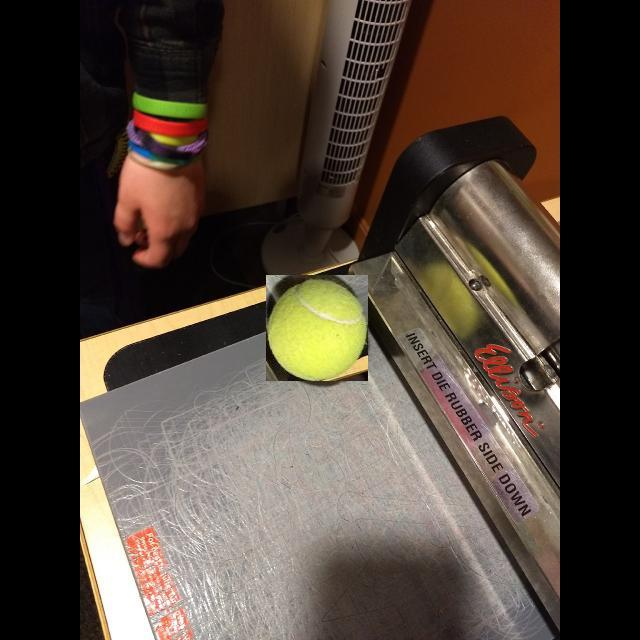tennis ball: (266, 275, 368, 381)
